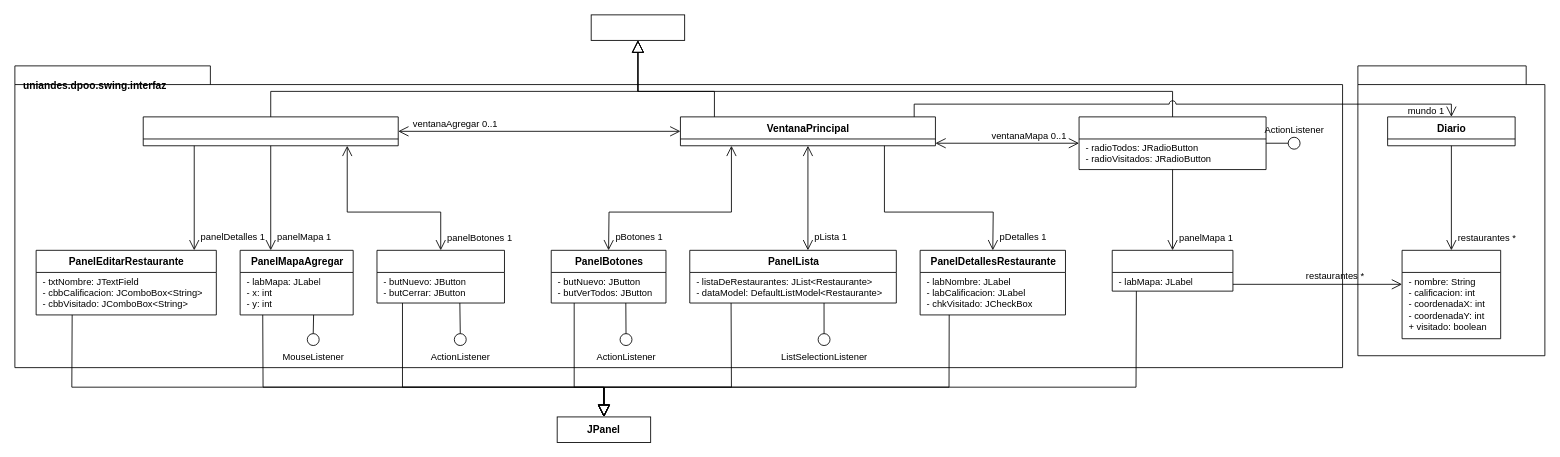
Some shapes in this 1560 by 457 pixel diagram are drawn without their labels. Here are the shapes that lost their labels. From the top down, the box of each, then its label:
(590, 14, 685, 40): JFrame
(142, 116, 398, 146): VentanaAgregarRestaurante
(1078, 116, 1266, 170): VentanaMapa
(1357, 65, 1545, 356): uniandes.dpoo.swing.mundo
(376, 249, 504, 303): PanelBotonesAgregar
(1111, 249, 1233, 291): PanelMapaVisualizar
(1401, 249, 1501, 339): Restaurante
